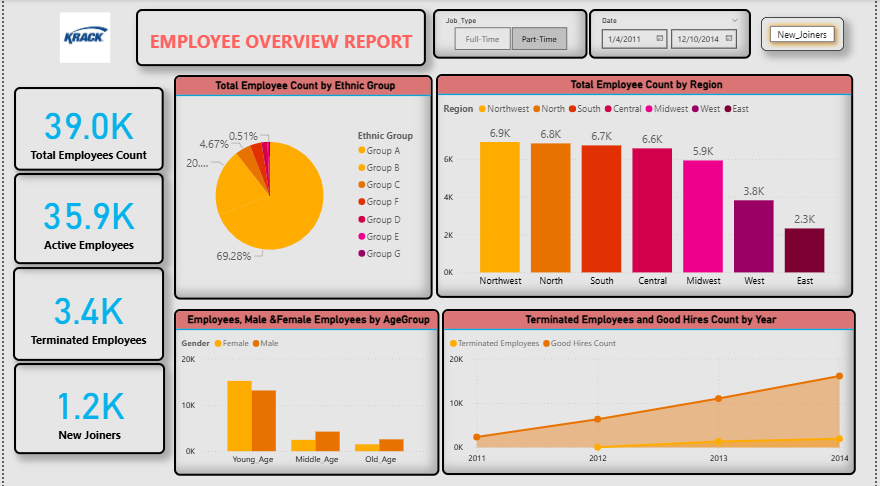

This screenshot's page, from the dashboard's own definition file:
{"tool":"powerbi","page":{"name":"Employee Overview","canvas":[1280,720],"ordinal":0},"visuals":[{"type":"card","fields":{"Values":["_Measures.Terminated Employees"]},"box":[12.5,393.3,221.7,137.7],"z":0},{"type":"card","fields":{"Values":["_Measures.TotalEmployees"]},"box":[14.3,128.7,219.9,123.4],"z":1000},{"type":"card","fields":{"Values":["_Measures.Active Employees"]},"box":[14.3,255.6,219.9,134.1],"z":2000},{"type":"card","fields":{"Values":["_Measures.New Joiners"]},"box":[14.3,534.5,221.7,134.1],"z":3000},{"type":"pieChart","fields":{"Category":["Fact_Table.Ethnic Group"],"Y":["_Measures.TotalEmployeeCount"]},"box":[250,111.7,380,330],"z":4000},{"type":"columnChart","title":"Total Employee Count by Region","fields":{"Category":["Fact_Table.Region"],"Y":["_Measures.TotalEmployeeCount"],"Series":["Fact_Table.Region"]},"box":[634.6,110.8,613.2,328.9],"z":5000},{"type":"clusteredColumnChart","title":"Employees, Male &Female Employees by AgeGroup","fields":{"Category":["Fact_Table.AgeGroup"],"Y":["_Measures.TotalEmployees"],"Series":["Fact_Table.Gender"]},"box":[250.3,455.9,389.7,244.9],"z":6000},{"type":"slicer","fields":{"Values":["Fact_Table.Job_Type"]},"box":[631.1,14.3,227,73.3],"z":7000},{"type":"textbox","box":[194,14.7,426.1,83.8],"z":8000},{"type":"slicer","fields":{"Values":["Date Table.Date"]},"box":[859.9,14.3,237.8,73.3],"z":9000},{"type":"lineChart","fields":{"Category":["Date Table.Year Hierarchy.Year","Date Table.Year Hierarchy.Quarter","Date Table.Year Hierarchy.Month","Date Table.Year Hierarchy.Day"],"Y":["_Measures.Terminated Employees","_Measures.Good Hires Count"]},"box":[644,456,608,244],"z":10000},{"type":"pageNavigator","box":[1112,26.8,121.6,50.1],"z":11000},{"type":"image","box":[44.1,14.7,149.9,83.8],"z":12000}]}

Visuals, with their boxes in screenshot pixels (x1, y1, x2, y2), scaled from the page's 1280x720 canvas onto the 880x486 screenshot:
card - _Measures.Terminated Employees: l=9, t=265, r=161, b=358
card - _Measures.TotalEmployees: l=10, t=87, r=161, b=170
card - _Measures.Active Employees: l=10, t=173, r=161, b=263
card - _Measures.New Joiners: l=10, t=361, r=162, b=451
pieChart - Fact_Table.Ethnic Group x _Measures.TotalEmployeeCount: l=172, t=75, r=433, b=298
"Total Employee Count by Region" columnChart: l=436, t=75, r=858, b=297
"Employees, Male &Female Employees by AgeGroup" clusteredColumnChart: l=172, t=308, r=440, b=473
slicer - Fact_Table.Job_Type: l=434, t=10, r=590, b=59
textbox: l=133, t=10, r=426, b=66
slicer - Date Table.Date: l=591, t=10, r=755, b=59
lineChart - Date Table.Year Hierarchy.Year x Date Table.Year Hierarchy.Quarter: l=443, t=308, r=861, b=473
pageNavigator: l=764, t=18, r=848, b=52
image: l=30, t=10, r=133, b=66
